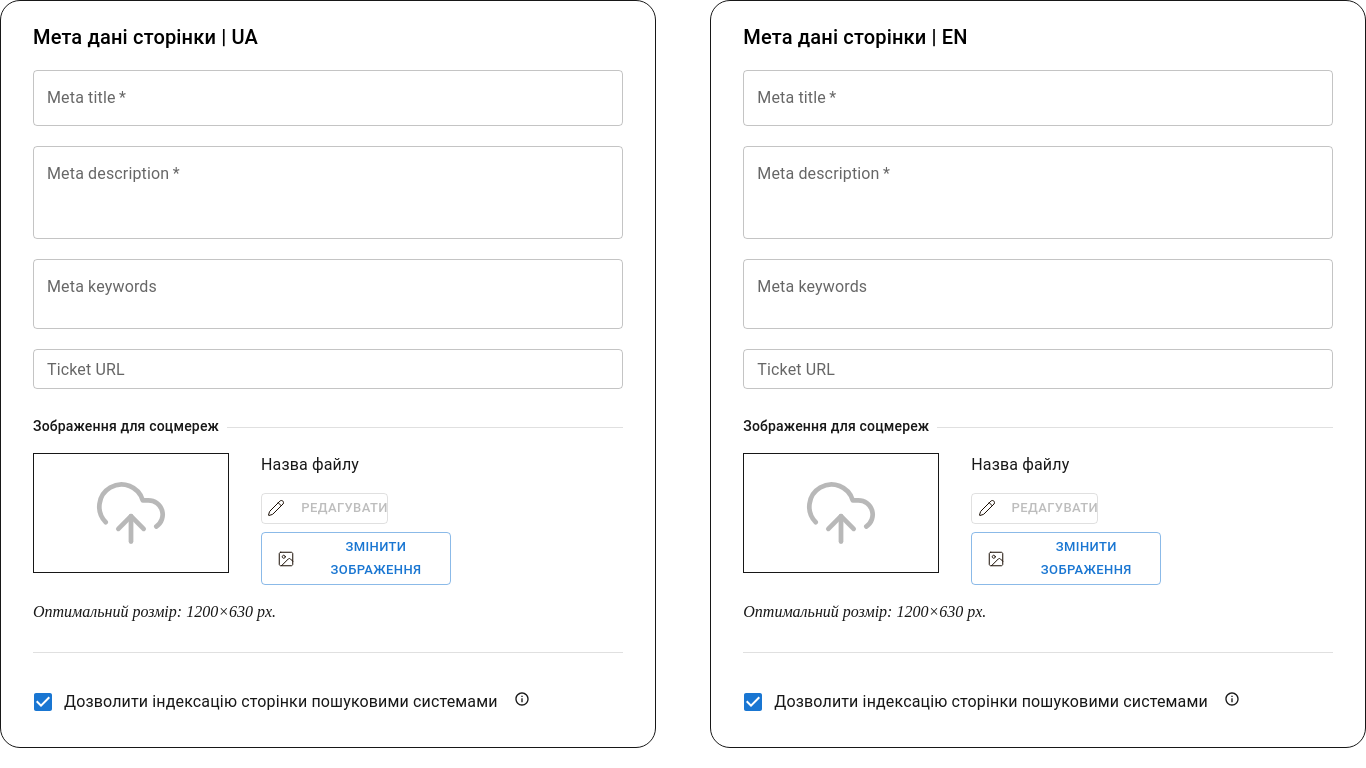
Scenario: SeoMetadataBlock › shows url format error for invalid ticket url
In the field labelled "Ticket URL" below "Мета дані сторінки | UA": (328, 369) top-left (33, 349), bottom-right (623, 389), type "bad-url"
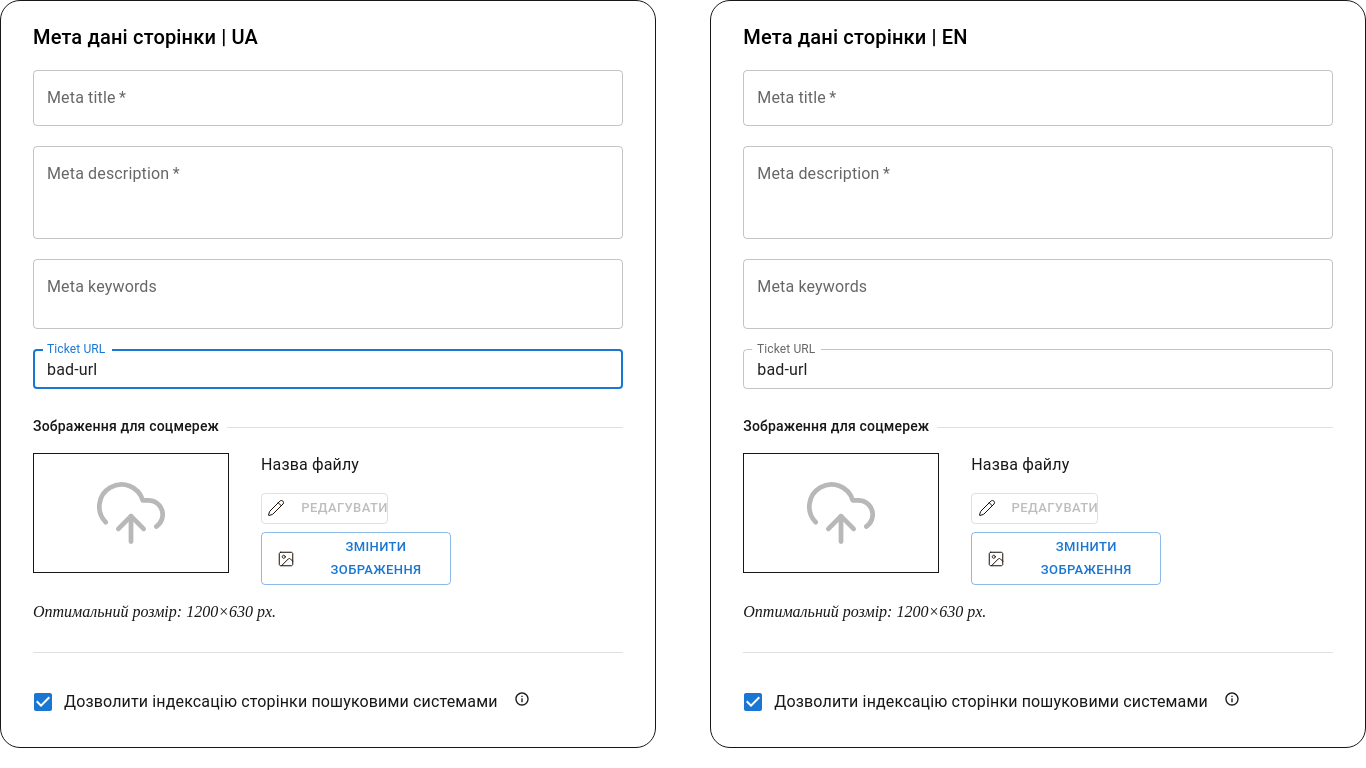
Press Tab
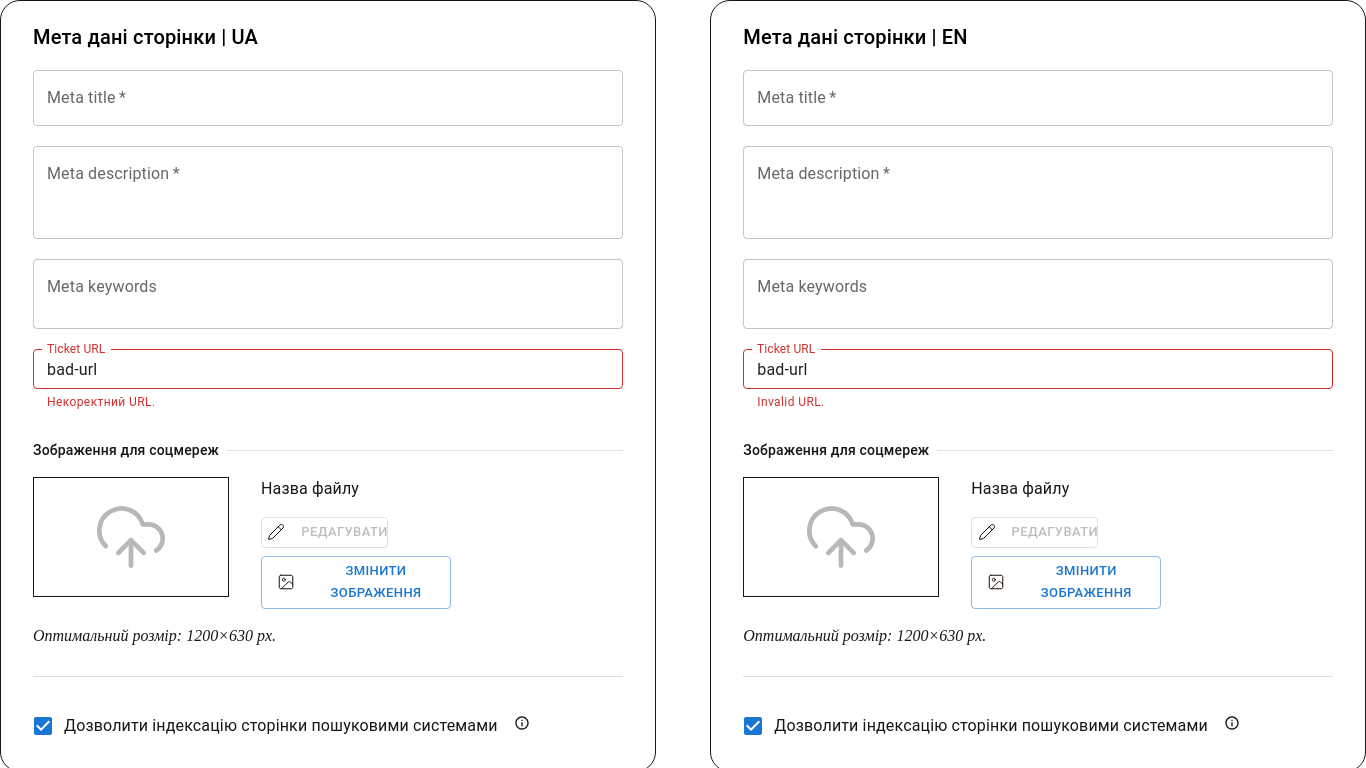
Expected: the text "Некоректний URL." is shown, top-left (47, 395), bottom-right (156, 409)
